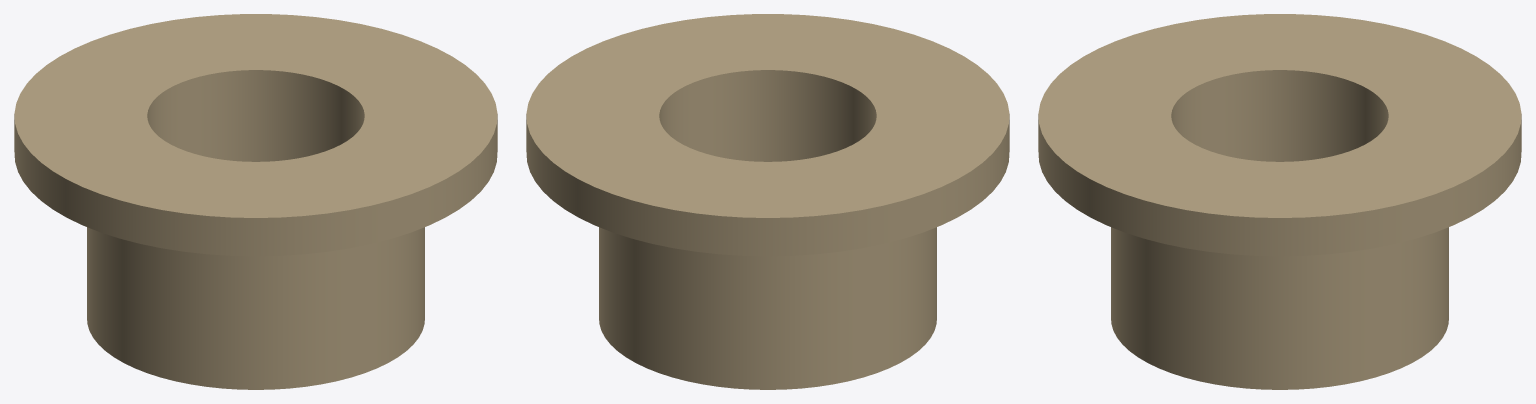
File: step_04.glb
The picture shows the model from 3 angles, left to right: view 1: azimuth 30°, elevation 25°; view 2: azimuth 150°, elevation 25°; view 3: azimuth 270°, elevation 25°; orthographic projection.
Parts seen in each view (by area): view 1: part__bronze bush; view 2: part__bronze bush; view 3: part__bronze bush.
Boxes of the visible parts, x1,y1,x2,y2 form: part__bronze bush: (14, 14, 497, 389); part__bronze bush: (526, 14, 1009, 389); part__bronze bush: (1038, 14, 1521, 389).
Bounding box in the file's own units: 79.95 × 37 × 79.98.
